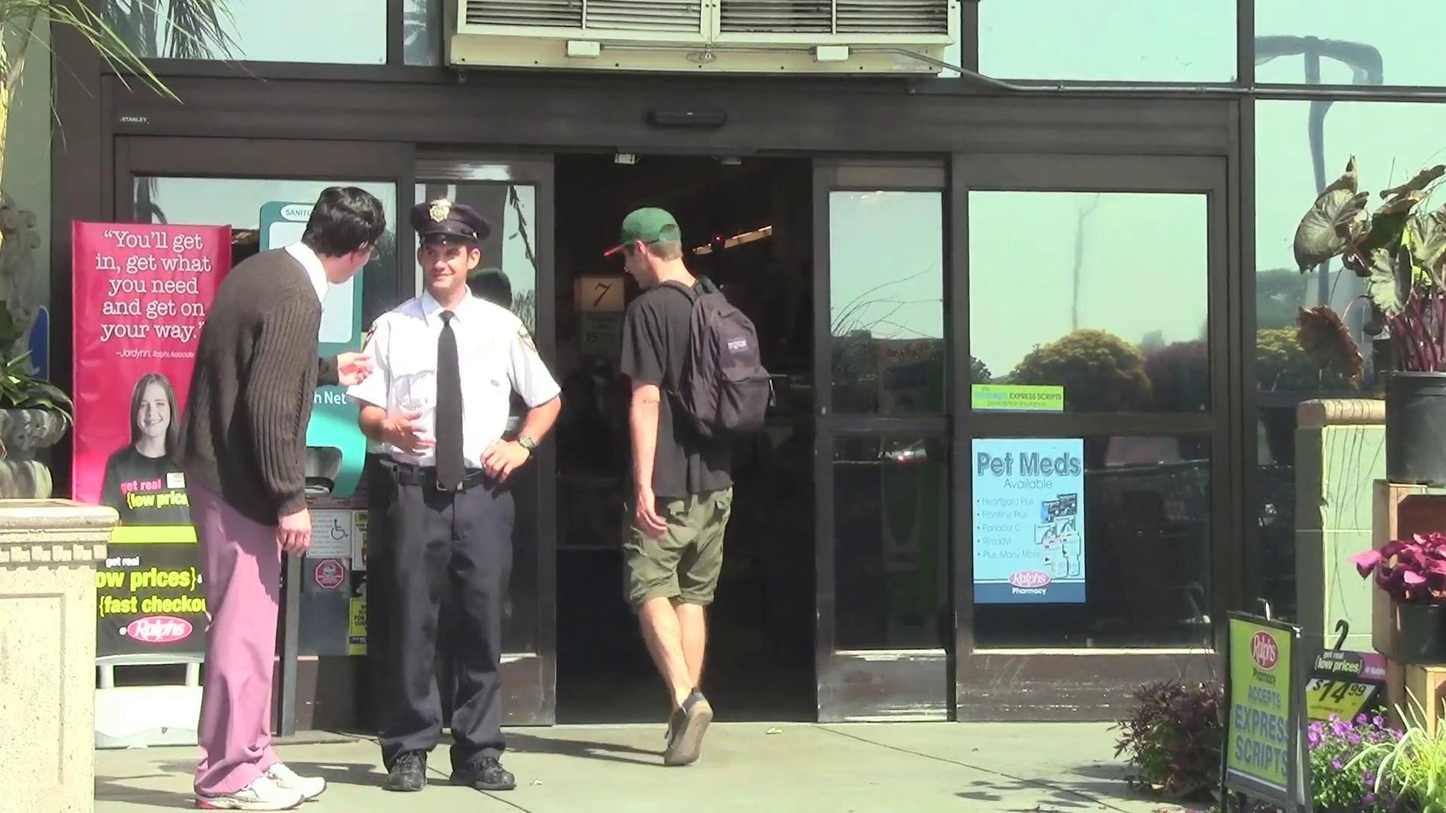victim: (163, 178, 379, 813), (350, 192, 566, 794), (599, 202, 771, 771)
